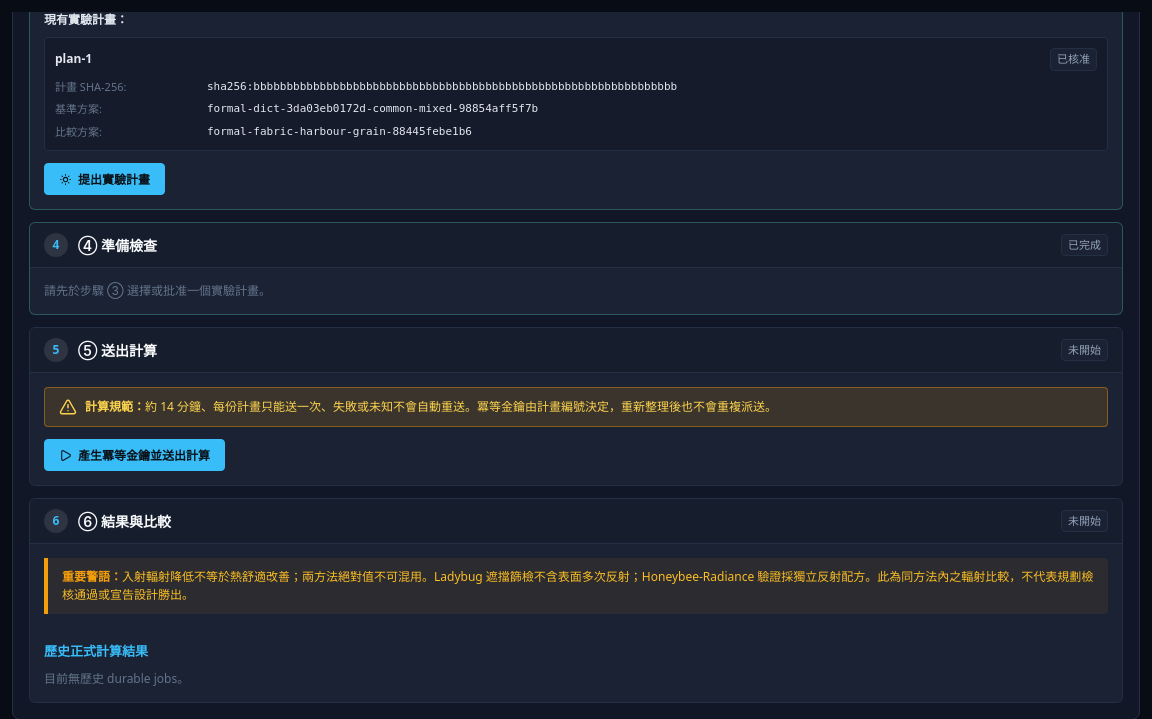
Scenario: E2Workspace Component › generates idempotency key on simulate and disables button on outcome unknown
This screenshot has width=1152, height=719.
(page scrolled)
Re-query the button to ensure fresh reference and click
Click the button "產生冪等金鑰並送出計算".
click(134, 455)  # box [44,439,225,471]
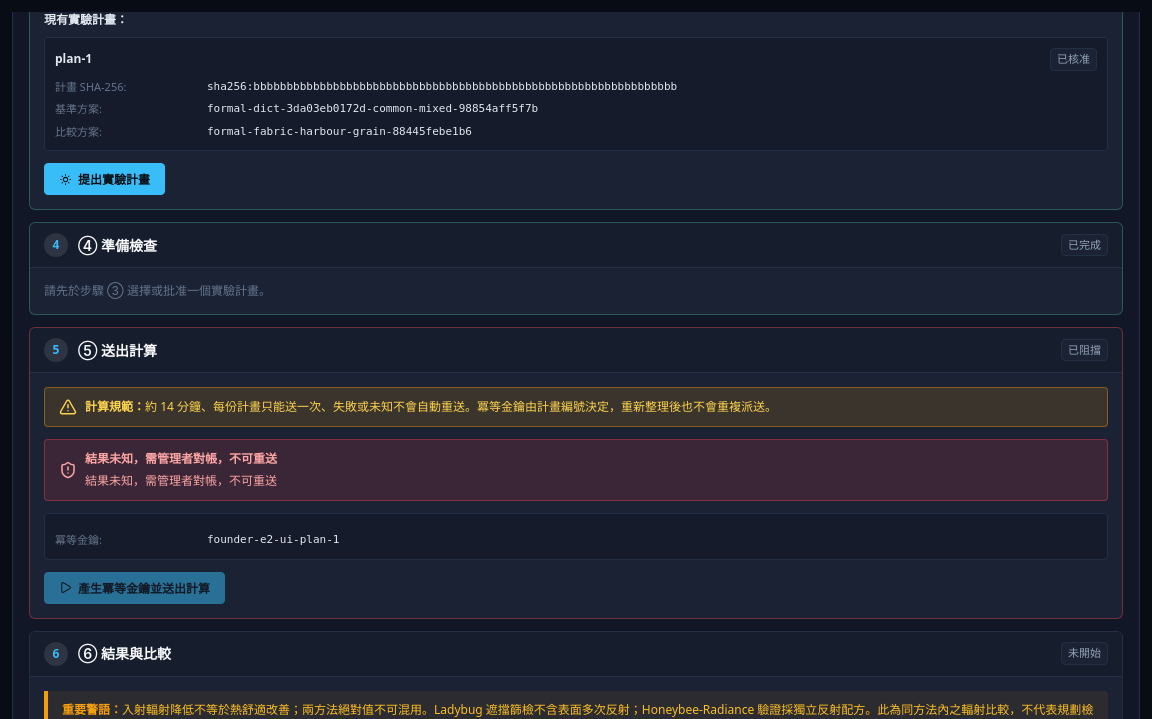
Now the 1st text "結果未知，需管理者對帳，不可重送" is shown, box [85,450,277,467]
Now the button "產生冪等金鑰並送出計算" is disabled, box [44,572,225,604]
Now the text "founder-e2-ui-plan-1" is shown, box [207,533,340,546]
